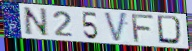2: (52, 10, 74, 38)
5: (80, 11, 99, 40)
D: (156, 14, 186, 47)
F: (131, 14, 157, 44)
N: (22, 6, 50, 38)
V: (103, 11, 129, 44)
